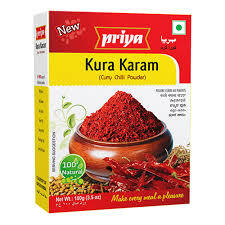VEG: (171, 19, 187, 36)
